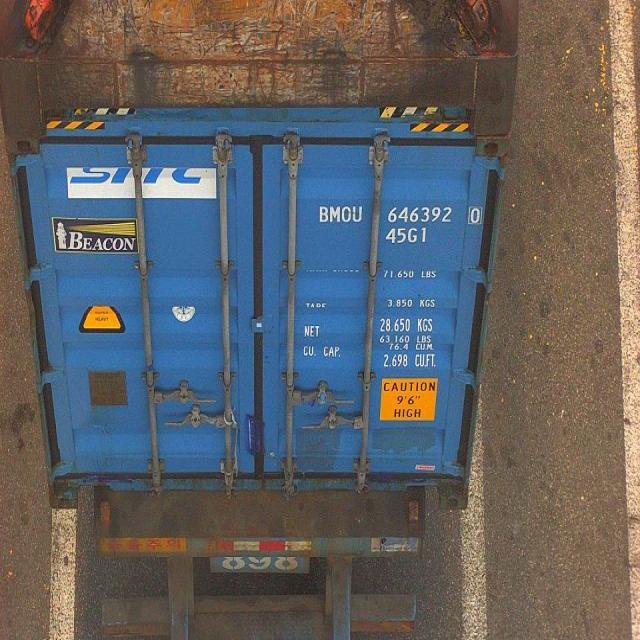ISO: (386, 227, 428, 244)
container_number: (323, 204, 479, 225)
